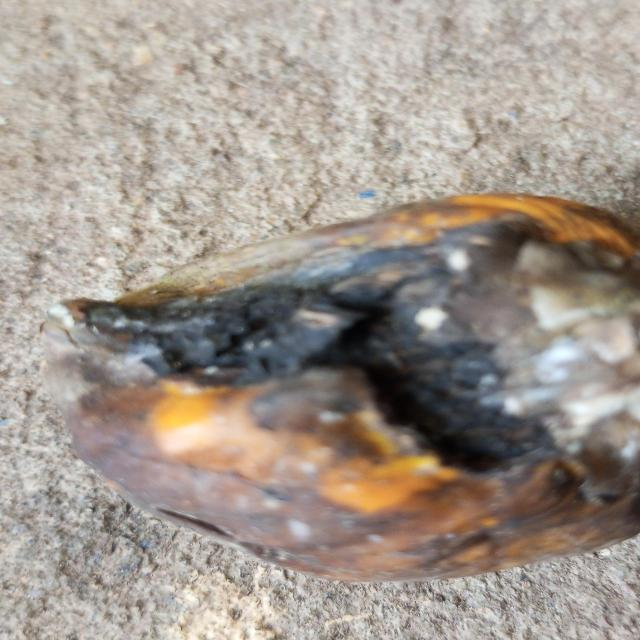damaged: (41, 193, 640, 580)
